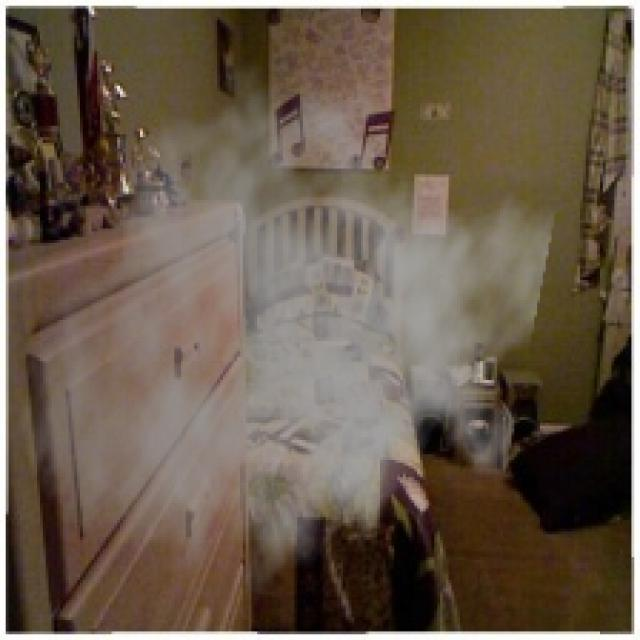smoke: (17, 60, 557, 626)
